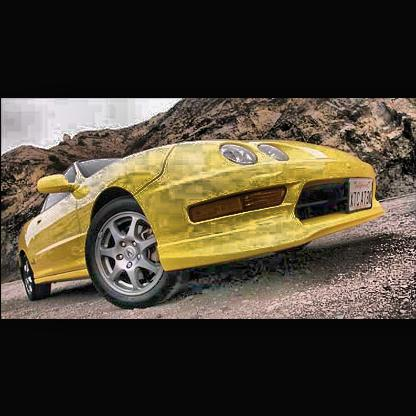Acura Integra Type R 2001: (16, 139, 386, 306)
